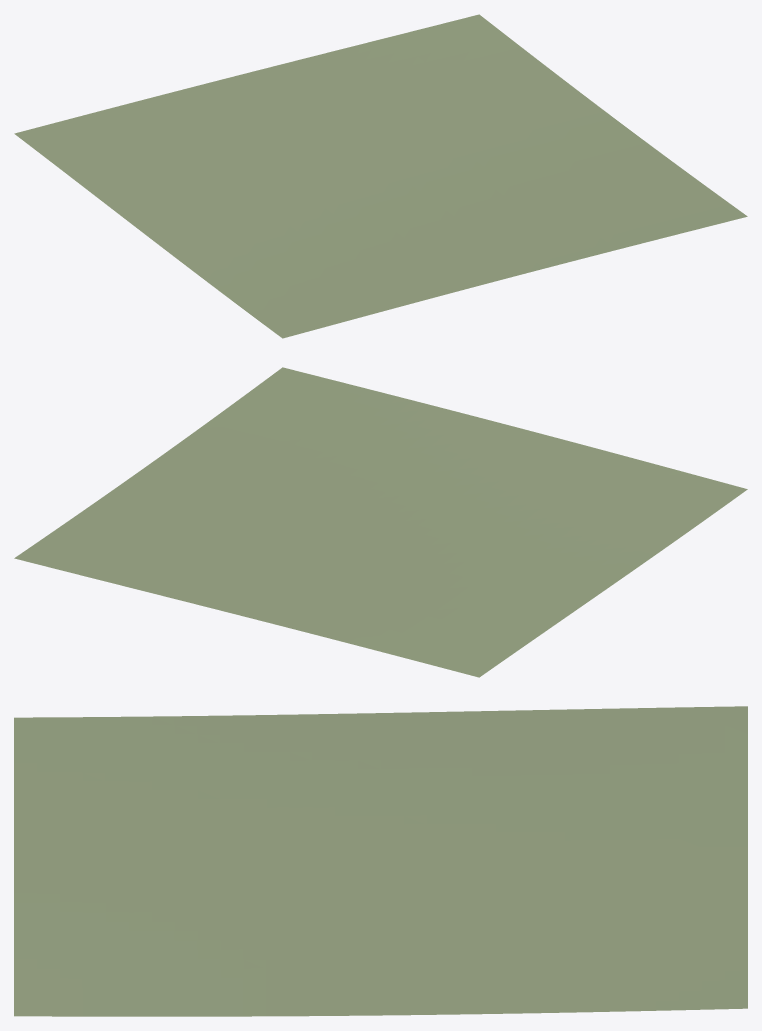
File: expanse-20-19.glb
3 renders of one model, top to bottom at view 1: azimuth 30°, elevation 25°; view 2: azimuth 150°, elevation 25°; view 3: azimuth 270°, elevation 25°, orthographic. The views are drawn at different scales.
Visible parts, largest first — view 1: expanse-20-19; view 2: expanse-20-19; view 3: expanse-20-19.
Part boxes in pixels (<box>): expanse-20-19: <box>14,14,747,338</box>; expanse-20-19: <box>14,367,747,677</box>; expanse-20-19: <box>14,706,747,1016</box>.
Bounding box in the file's own units: 256 × 7.35 × 256.
